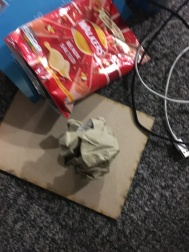paper_brown: (49, 115, 127, 187)
